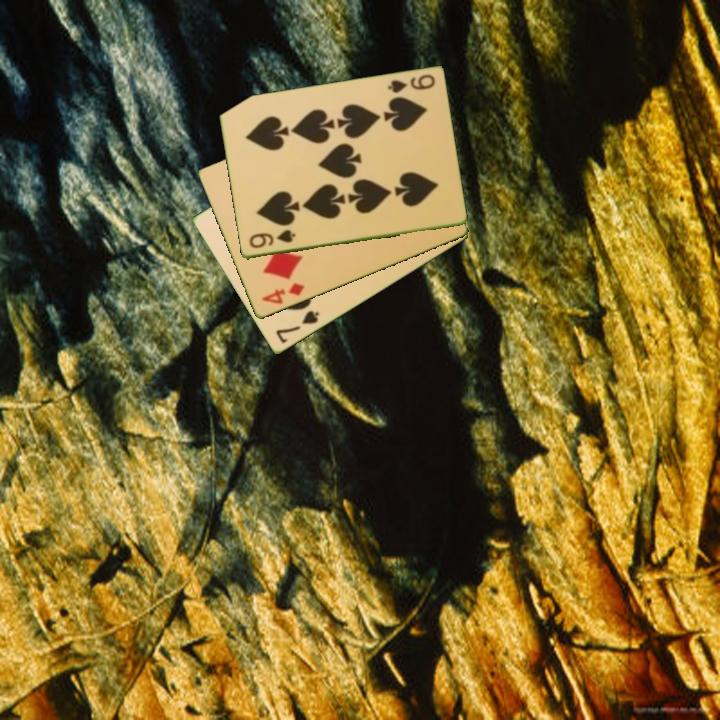4d: (258, 280, 308, 307)
7s: (272, 307, 322, 347)
9s: (245, 226, 298, 252), (384, 71, 438, 96)
